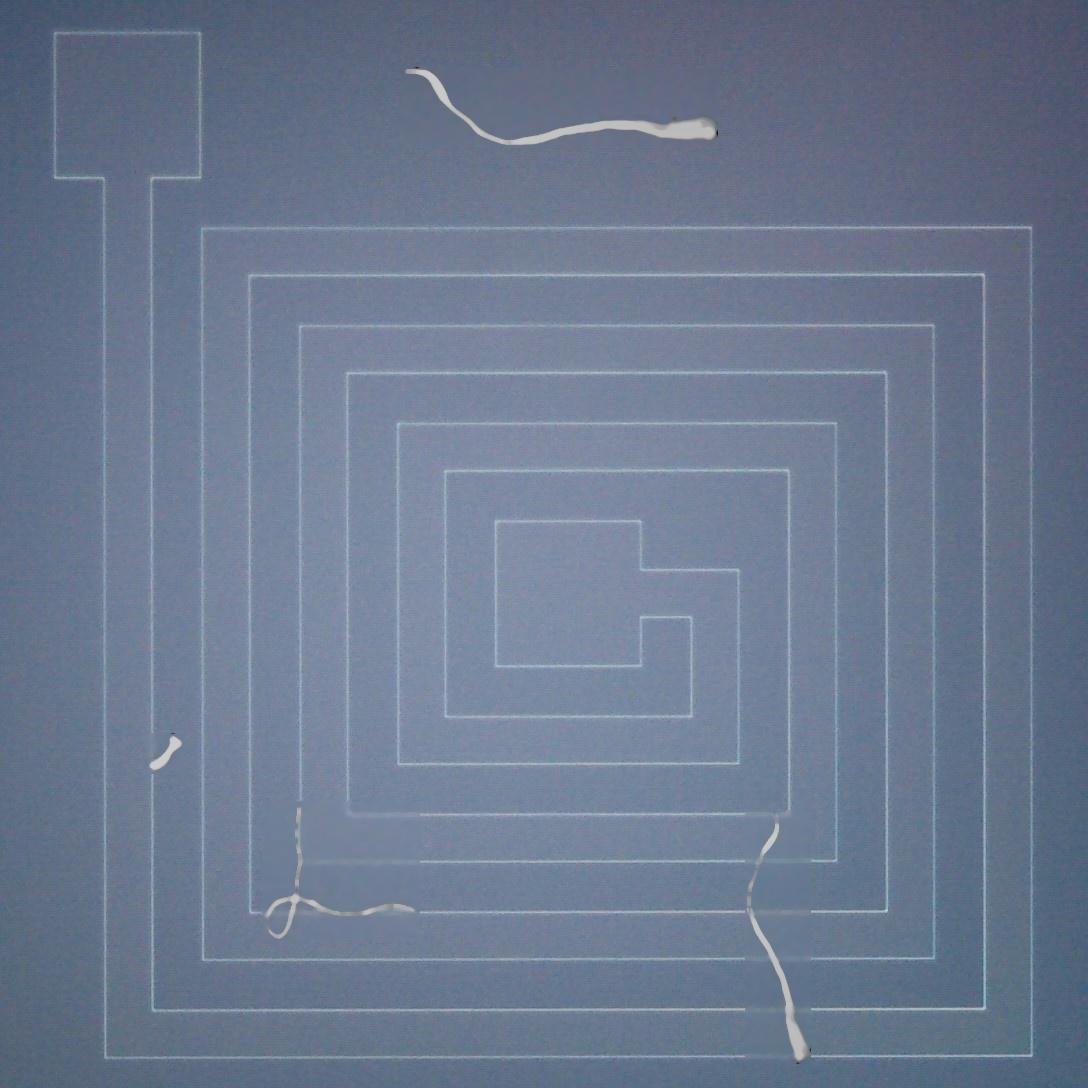foreign: (397, 58, 724, 165), (252, 786, 427, 952), (736, 808, 816, 1069), (145, 728, 187, 784)
